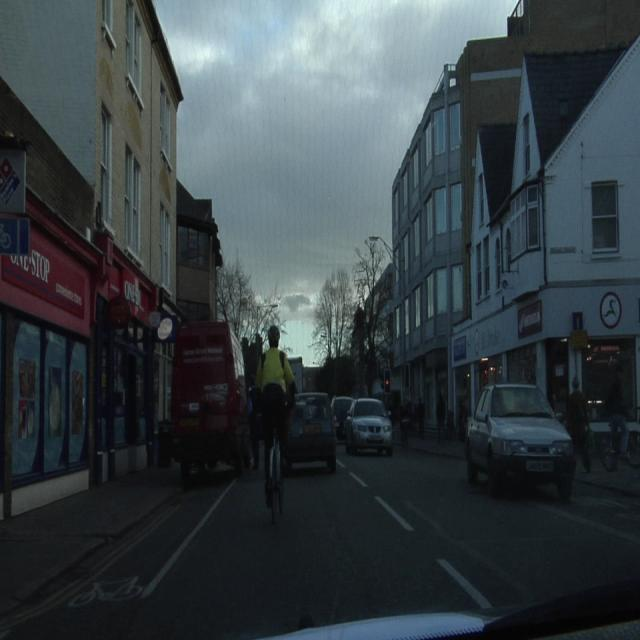Building: (2, 0, 222, 508), (393, 0, 636, 431)
Car: (466, 384, 574, 498), (282, 394, 335, 471), (346, 399, 392, 455), (332, 397, 353, 438)
Road: (1, 442, 639, 633)
Tree: (315, 236, 389, 389), (218, 258, 282, 342)
Truck_Bus: (172, 322, 249, 474)
